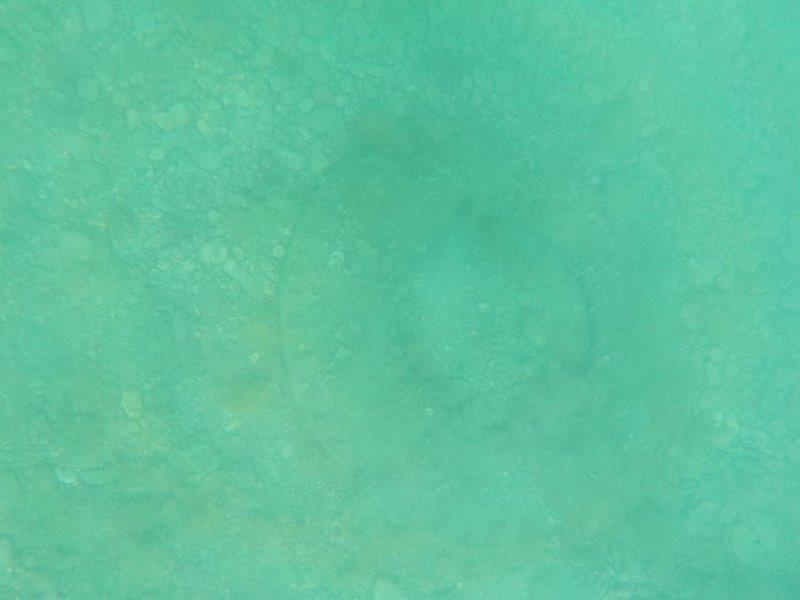tire: (267, 108, 705, 551)
